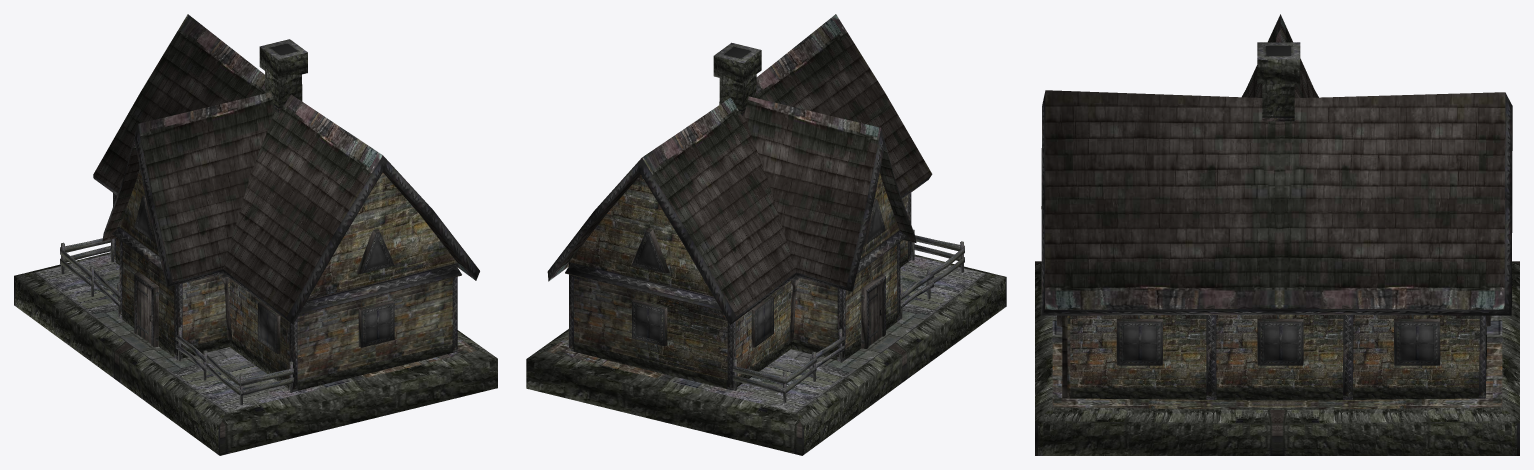
The model's file is house6-02.obj.
The picture shows the model from 3 angles, left to right: view 1: azimuth 30°, elevation 25°; view 2: azimuth 150°, elevation 25°; view 3: azimuth 270°, elevation 25°; orthographic projection. The views are drawn at different scales.
Bounding box in the file's own units: 10.17 × 10.14 × 13.04.
1 material, 1 textured.
